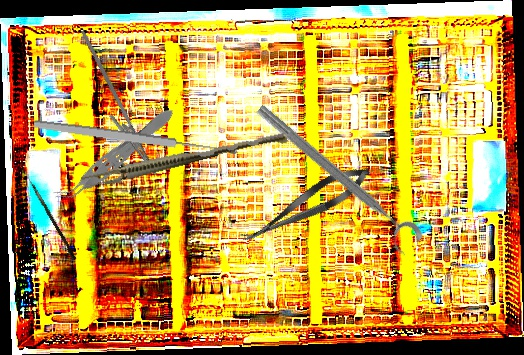Fixation Ring: (245, 99, 426, 259)
Hook Surgical: (16, 163, 78, 261)
Micro Scissor: (235, 157, 377, 254)
Needle Holder: (54, 29, 174, 183)
Surgical Spoon: (32, 117, 239, 159)
Tissue Forceps: (79, 124, 289, 194), (51, 101, 180, 212)
